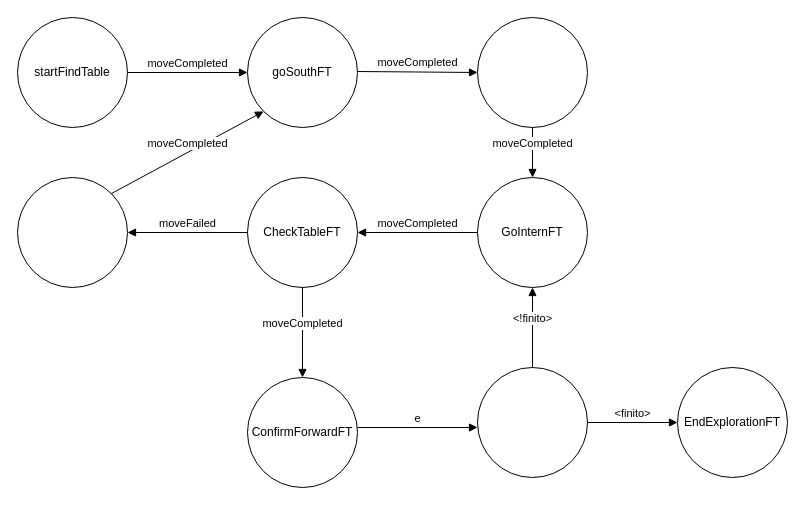
Image size: 805x505. Some labels were removed from this diagram. Each missing label, with the box of its shape:
AngleFT: (476, 366, 588, 478)
BacktrackingFT: (16, 176, 128, 288)
ForwardFT: (476, 16, 588, 128)
